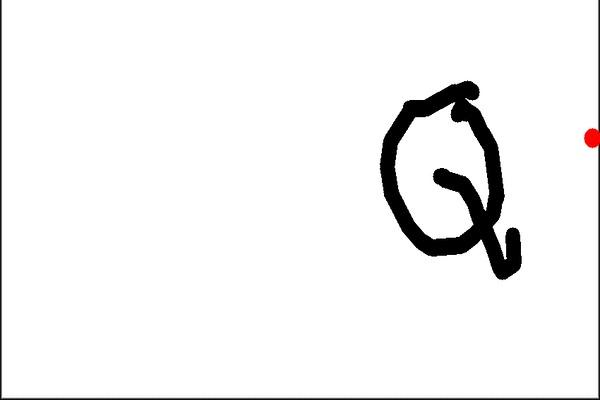Q: (362, 67, 541, 282)
